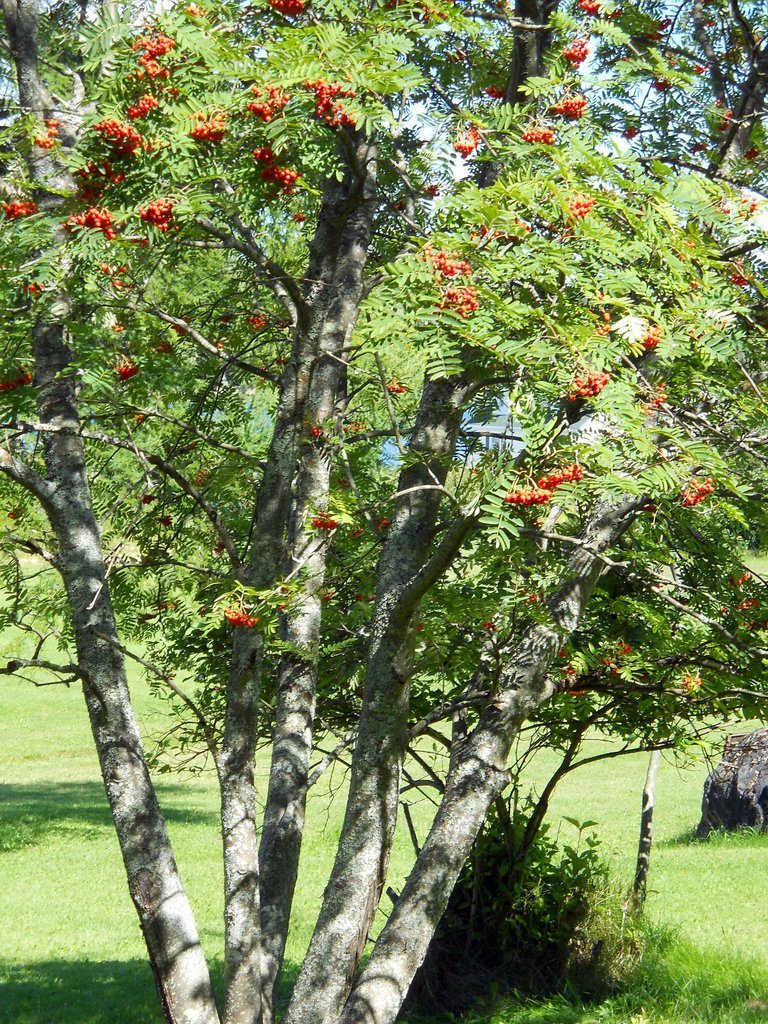Tree: (15, 29, 747, 968)
